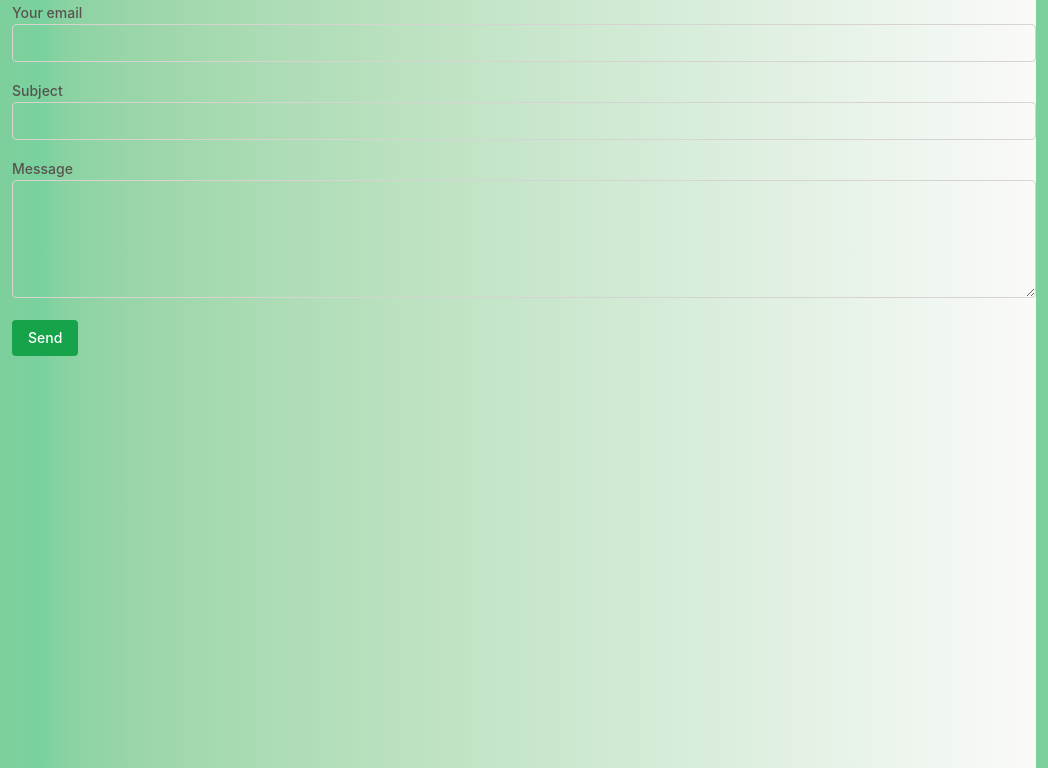
ContactForm › shows a success message after a successful submit
In the field labelled "Your email": (524, 43) [12, 24, 1036, 62], type "visitor@example.com"
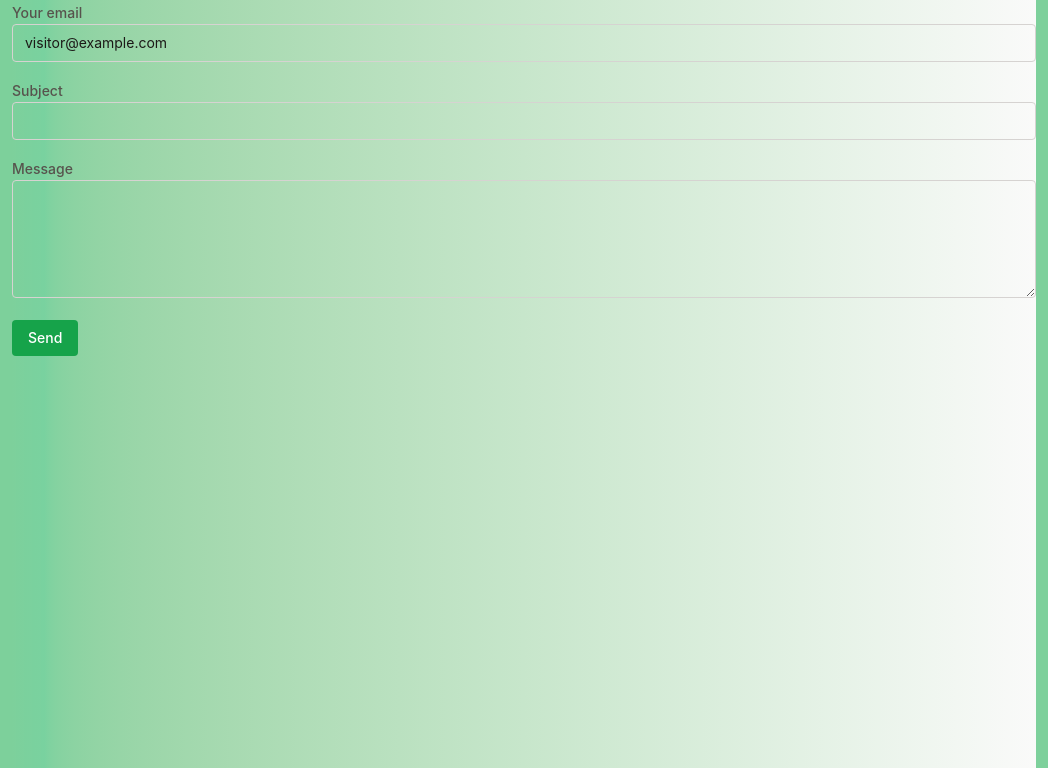
In the field labelled "Subject": (524, 121) [12, 102, 1036, 140], type "Hello"
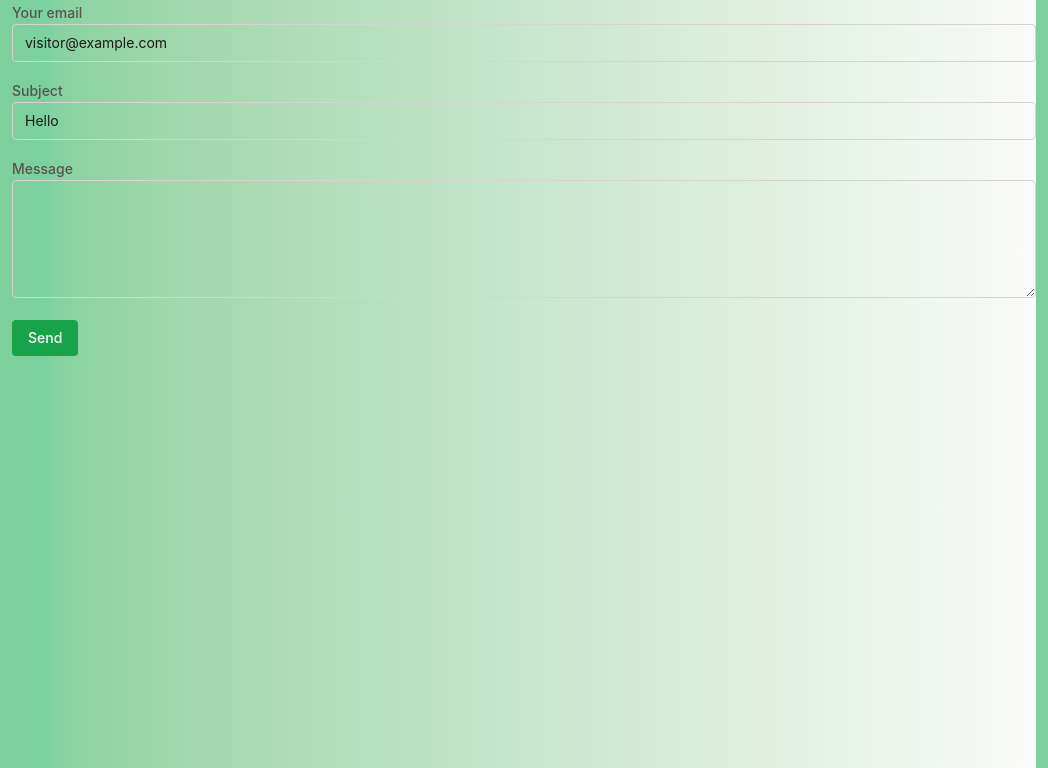
In the text box labelled "Message": (524, 239) [12, 180, 1036, 298], type "Hi there"
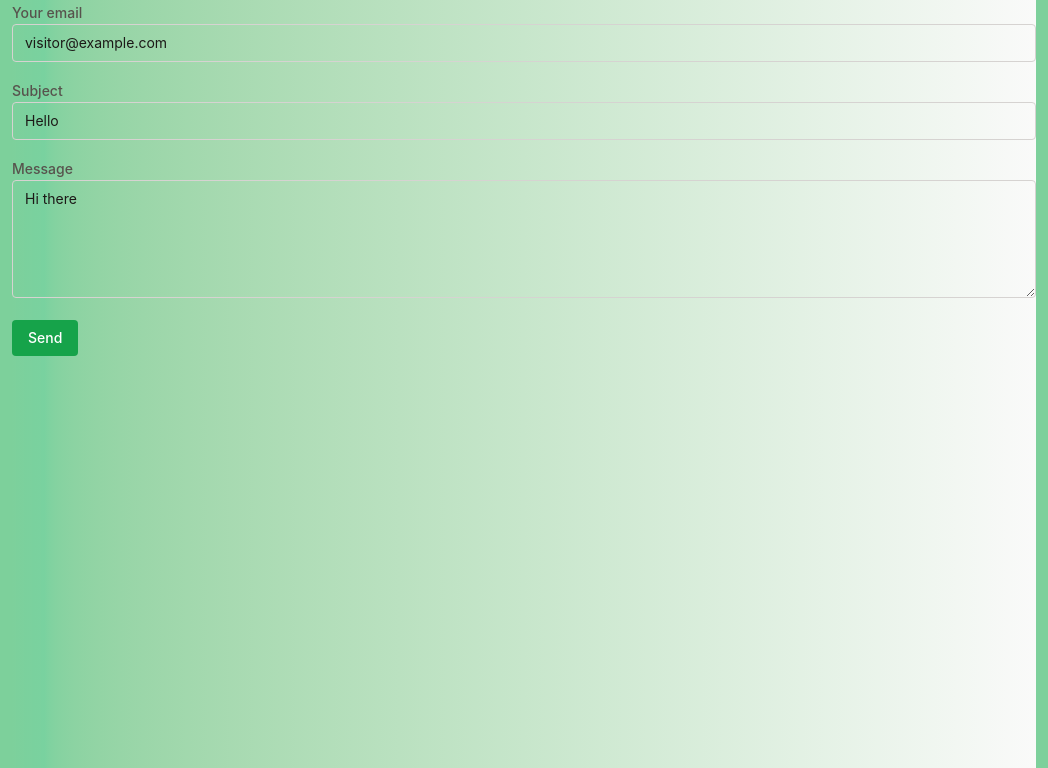
Click the button "Send": (45, 338) [12, 320, 78, 356]
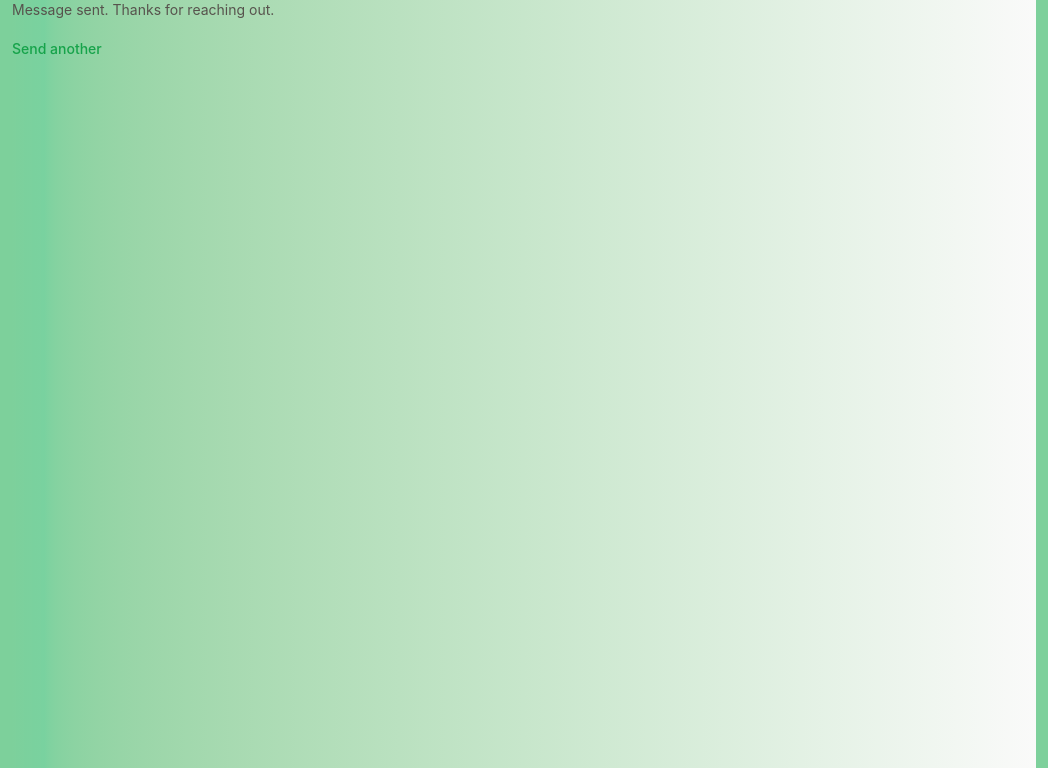
Now the text "Message sent. Thanks for reaching out." is shown, box [12, 1, 274, 18]
